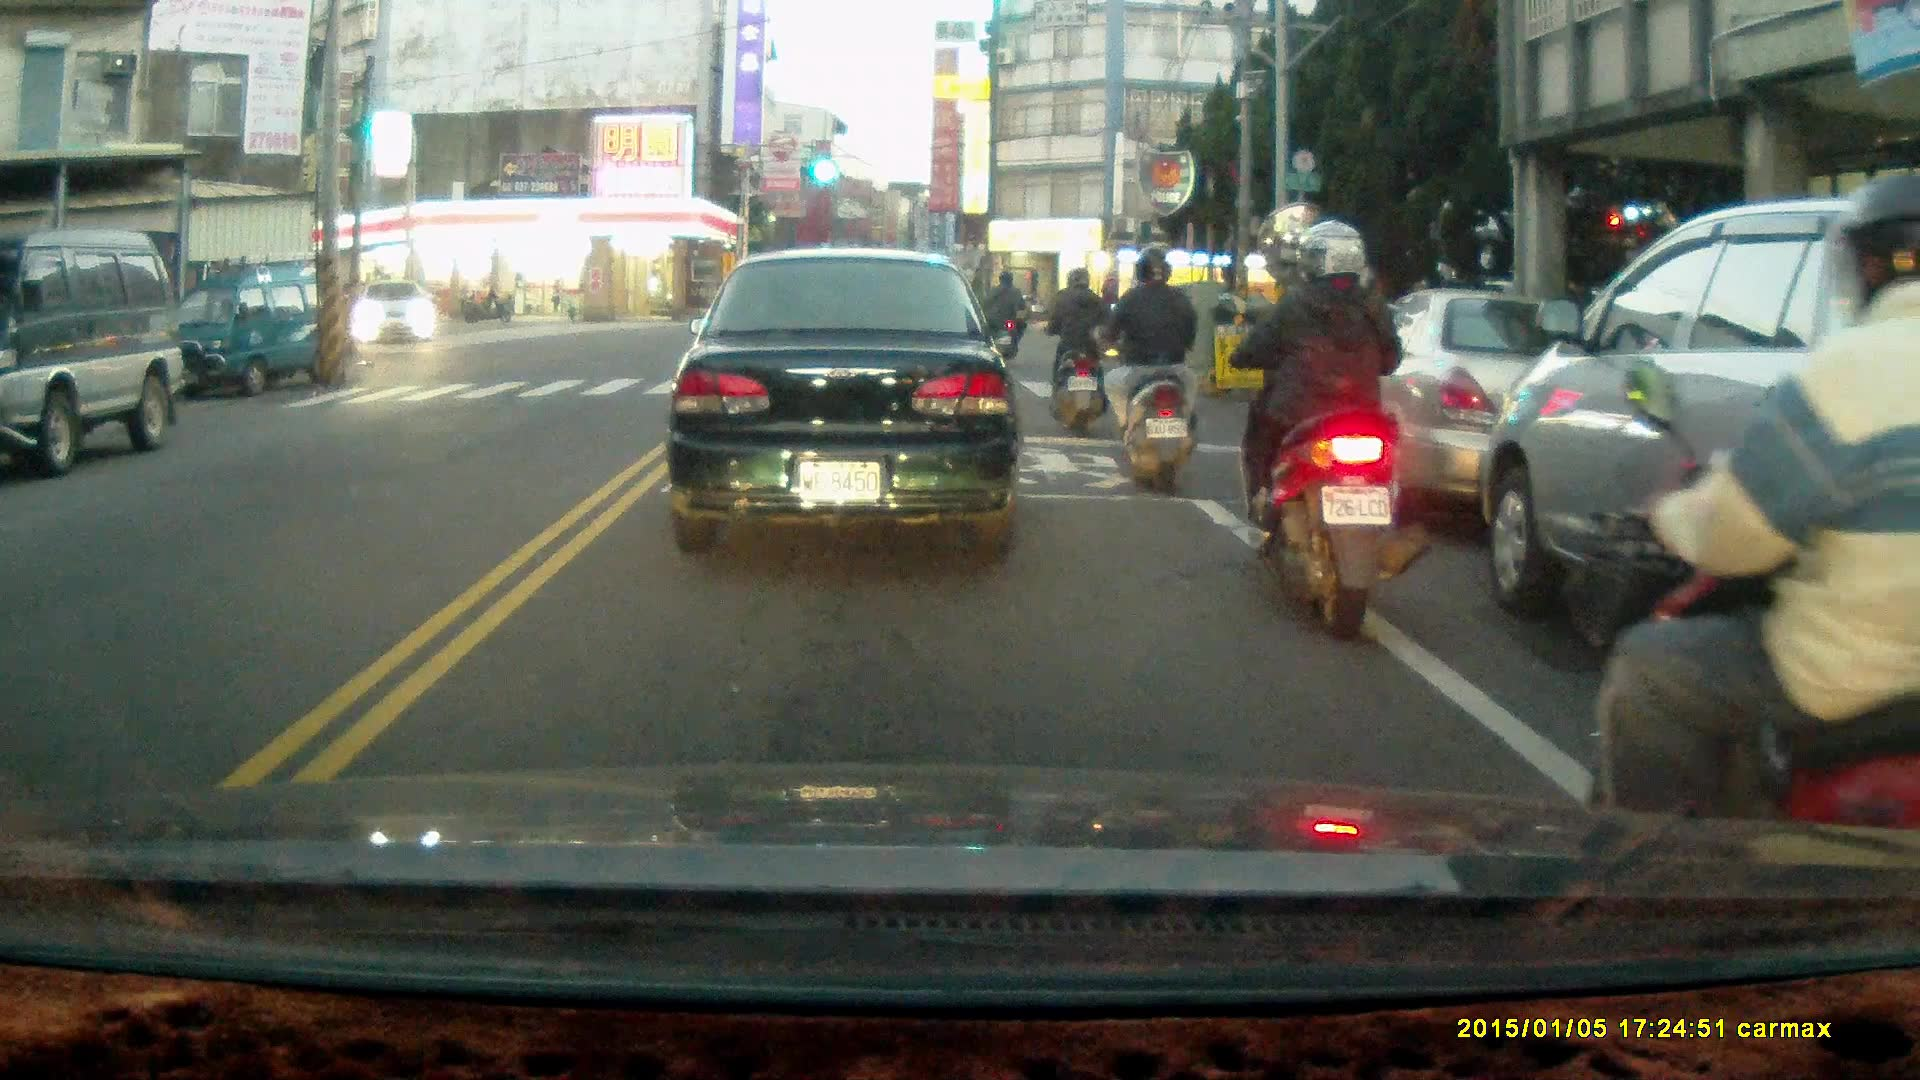rider: (1573, 171, 1920, 863), (1224, 216, 1429, 645), (1080, 247, 1197, 494), (1040, 264, 1109, 432), (984, 270, 1028, 366)
vehicle: (1479, 195, 1920, 804), (669, 248, 1024, 554), (1305, 288, 1670, 522), (1, 234, 175, 468), (157, 263, 350, 404), (356, 282, 440, 349)
